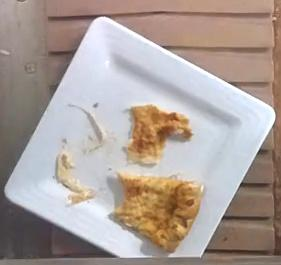pizza_crust: (113, 171, 202, 250), (128, 104, 192, 164)
